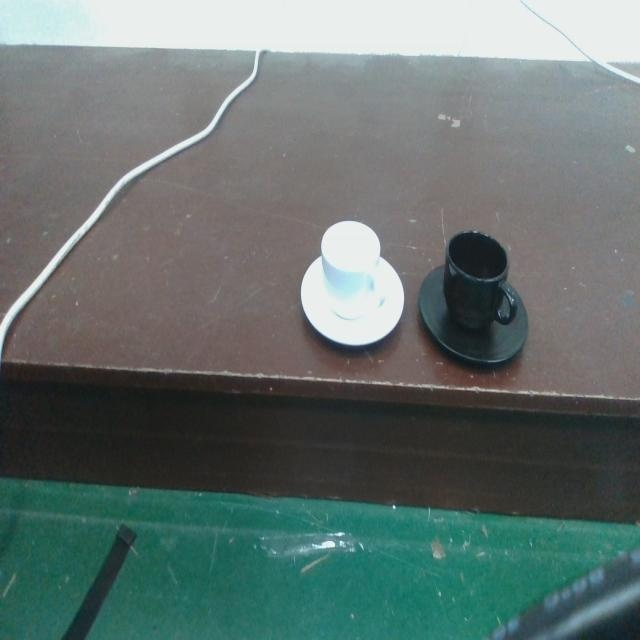black: (415, 227, 531, 367)
white: (299, 217, 406, 349)
